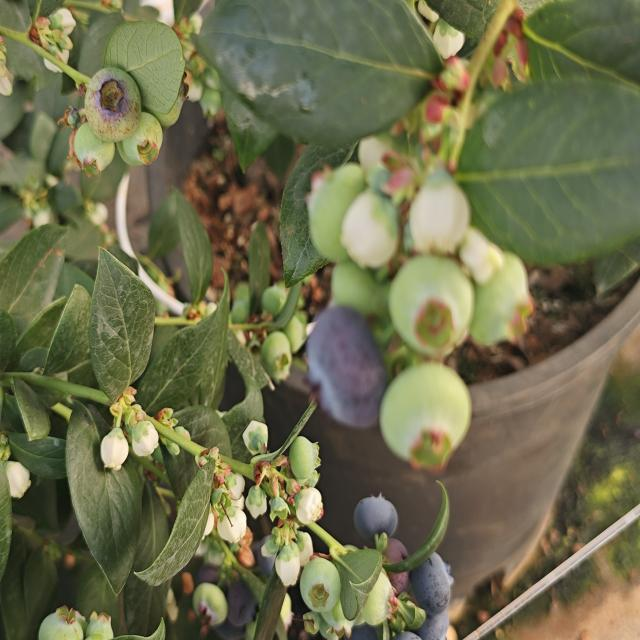ripe: (302, 303, 388, 432), (411, 550, 456, 615), (351, 490, 400, 544), (226, 573, 255, 633), (390, 614, 450, 638), (253, 530, 279, 578), (195, 561, 222, 588)
